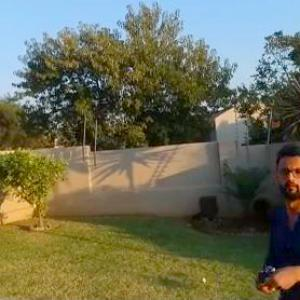follow: (251, 140, 300, 299)
